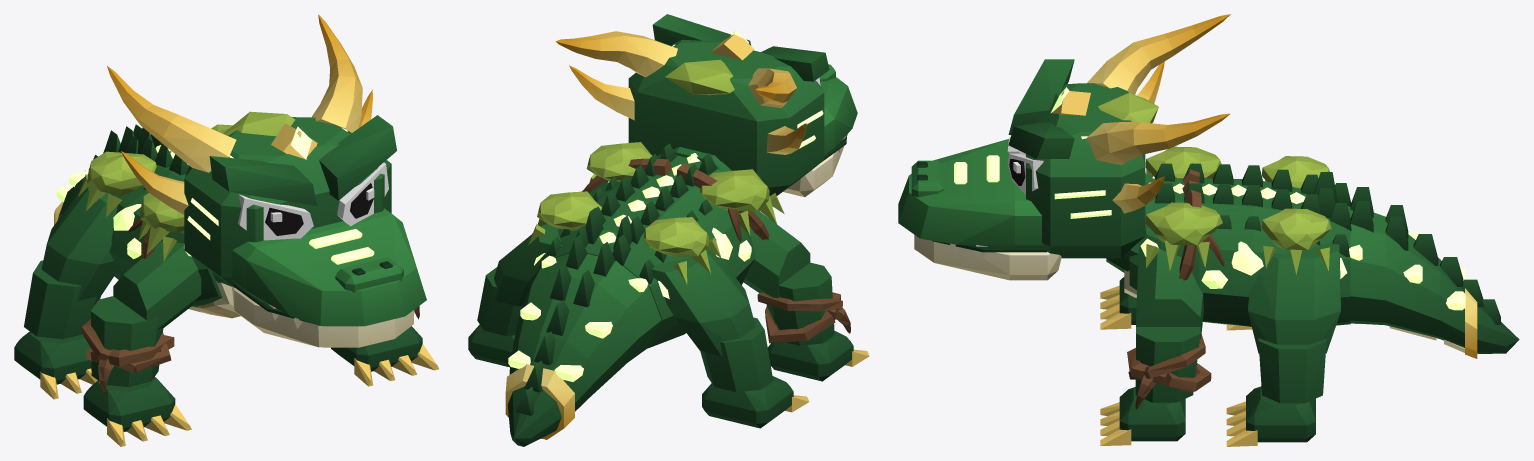
Rendered from SwampGator.glb.
3 renders of one model, left to right at view 1: azimuth 30°, elevation 25°; view 2: azimuth 150°, elevation 25°; view 3: azimuth 270°, elevation 25°, orthographic. The views are drawn at different scales.
Parts seen in each view (by area): view 1: SwampGator; view 2: SwampGator; view 3: SwampGator.
Boxes of the visible parts, x1=… form: SwampGator: x1=14, y1=14, x2=438, y2=446; SwampGator: x1=468, y1=14, x2=869, y2=446; SwampGator: x1=898, y1=14, x2=1519, y2=446.
Size of the model in its own units: 0.924 by 0.8739 by 1.6.
Materials: 1 (1 with a texture image).
